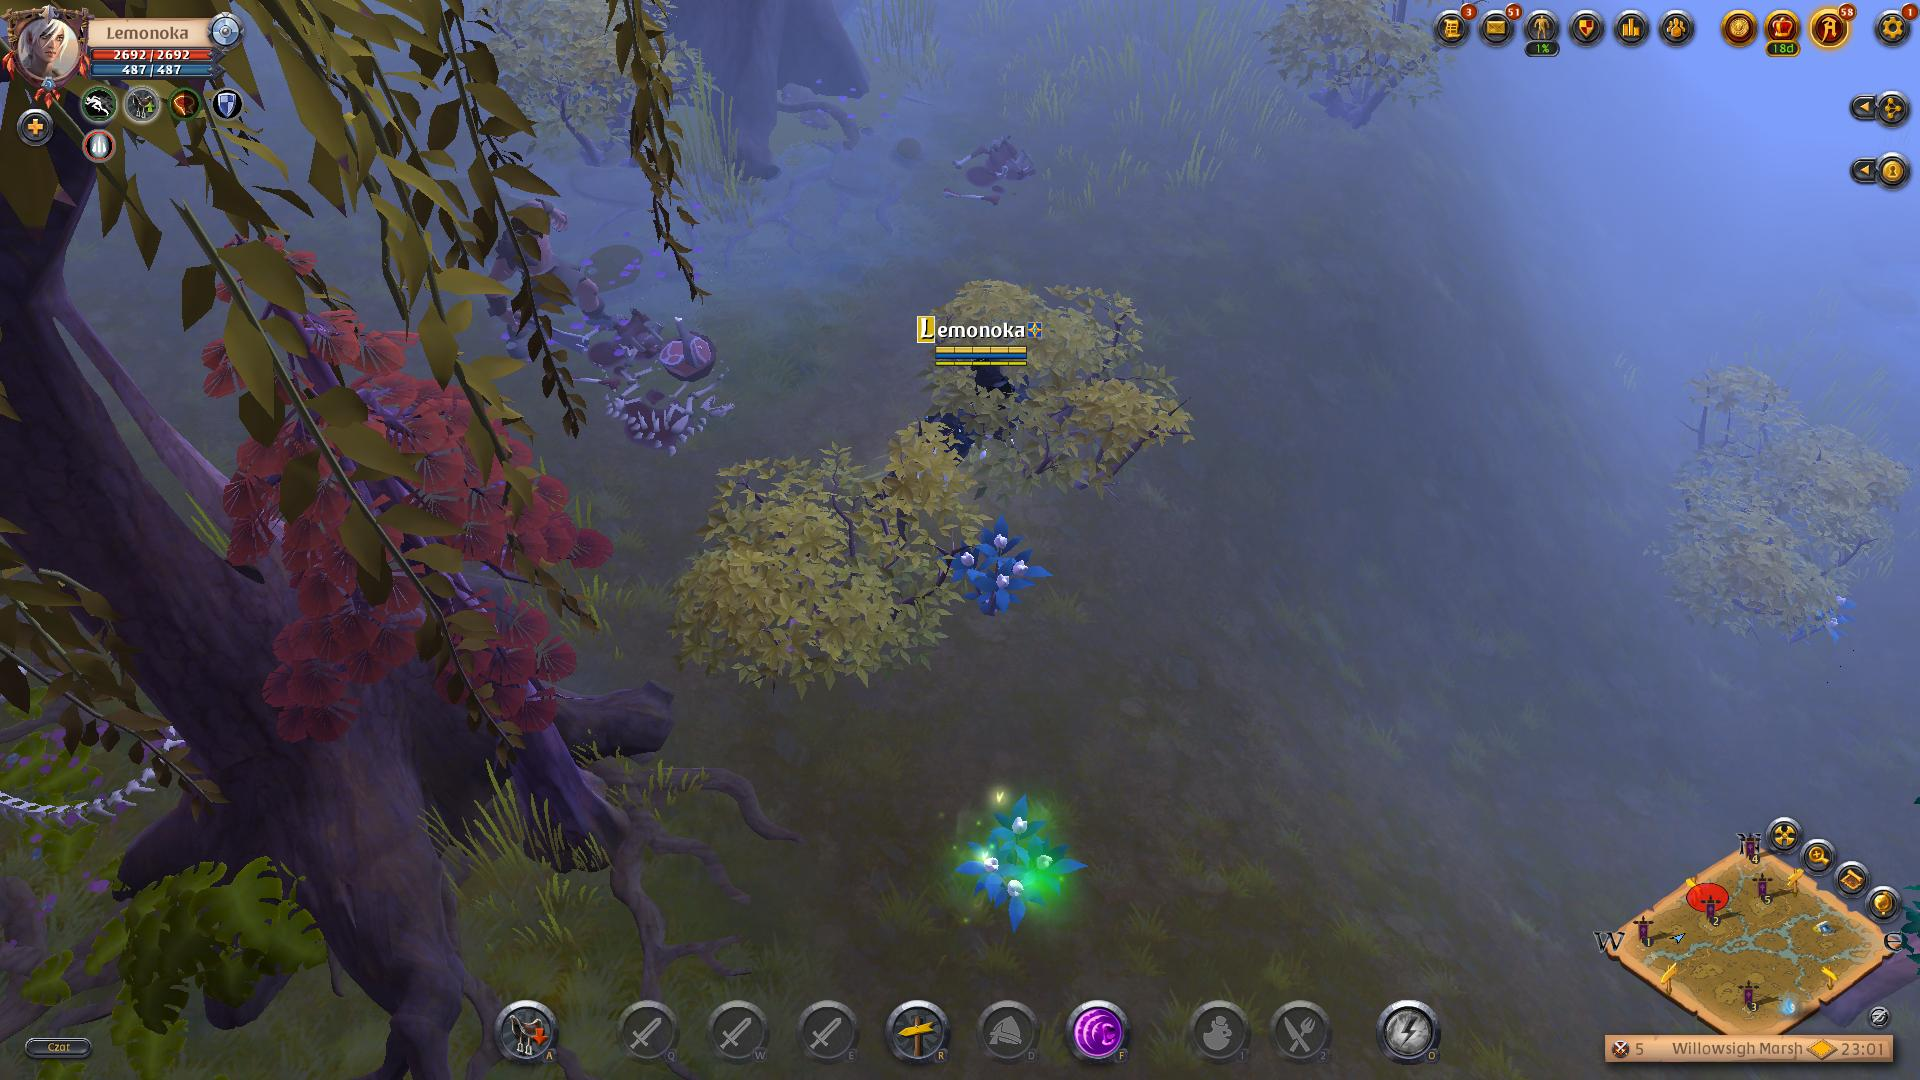fiber tier 4: (959, 791, 1088, 928), (943, 513, 1052, 618)
